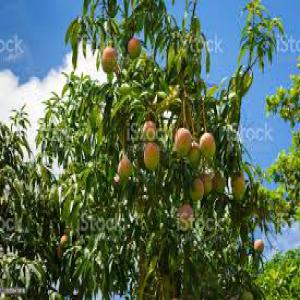Tree: (36, 2, 278, 292)
